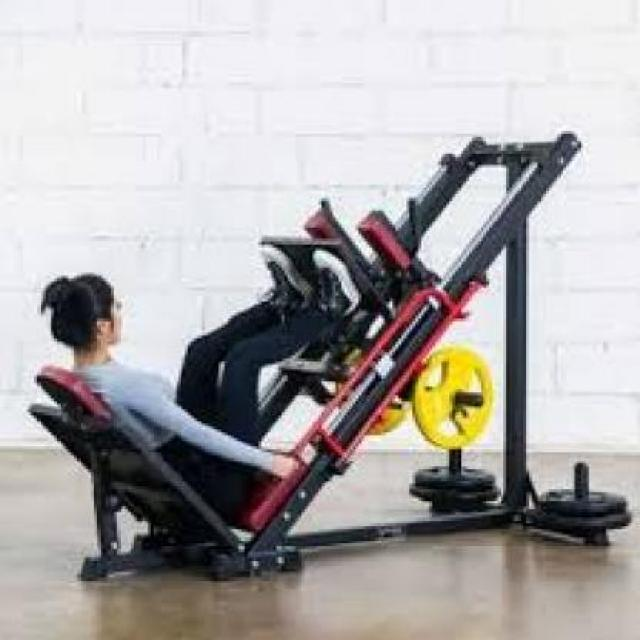leg press: (20, 120, 640, 612)
